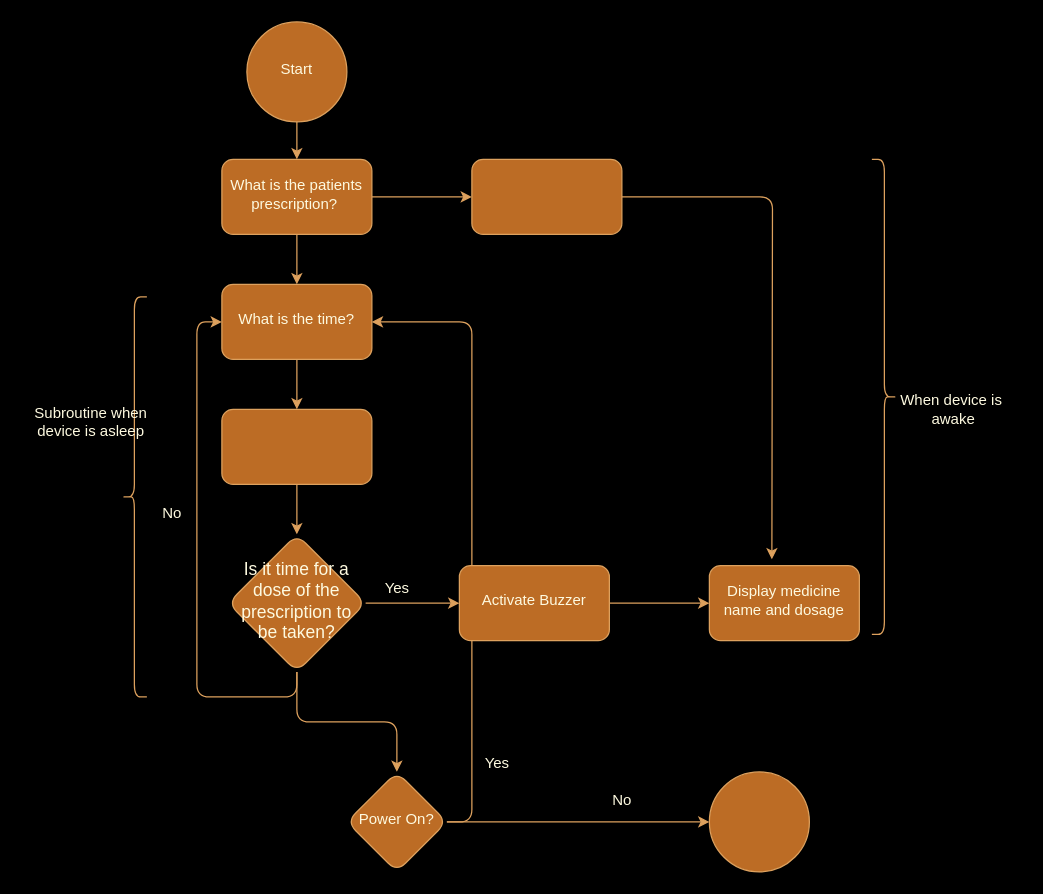
The diagram is 1043 pixels wide and 894 high, and some of its shapes have lost their labels. The centre of each missing label's shape, as x and y in pixels:
"Check patient Id" belongs at (x=546, y=196).
"END" belongs at (x=758, y=821).
"When did they take their last prescription?" belongs at (x=296, y=446).
